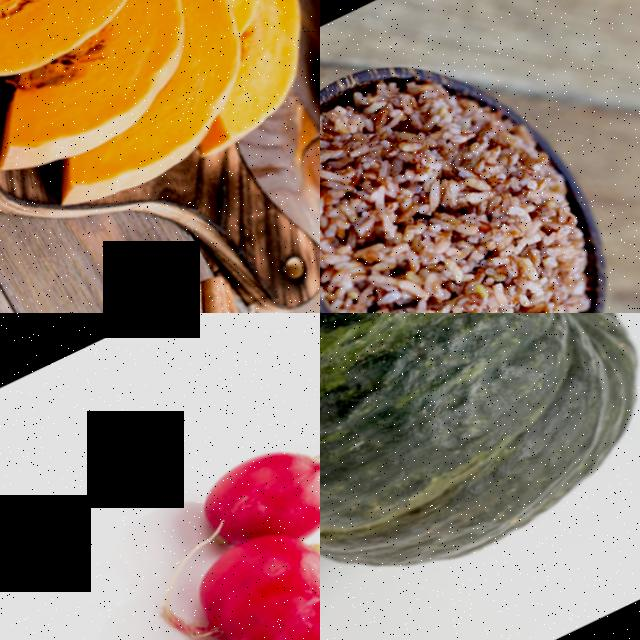pumpkin: (320, 313, 640, 640), (0, 2, 216, 184), (0, 0, 183, 122), (270, 0, 320, 273)
radishes: (97, 518, 320, 640), (172, 419, 320, 566)
red rice: (320, 46, 640, 313)
